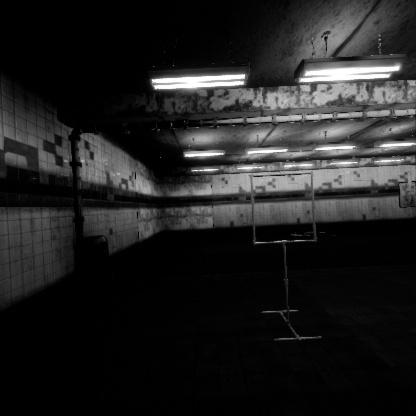gate: (250, 170, 322, 244)
